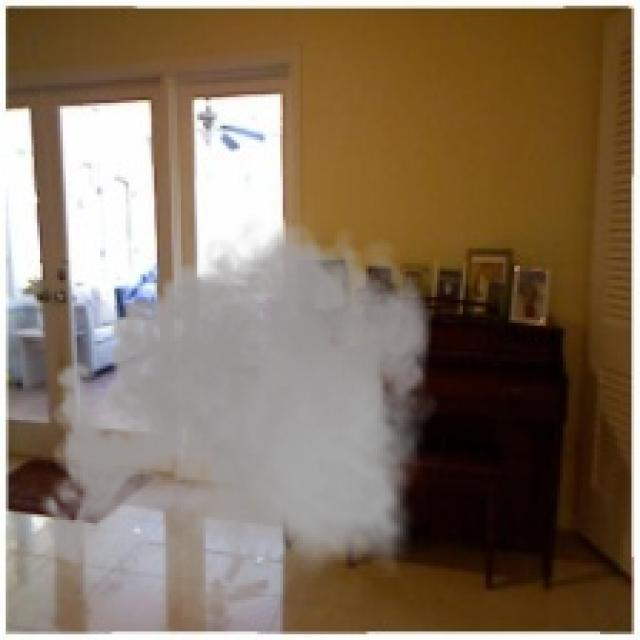Smoke: (28, 208, 446, 634)
